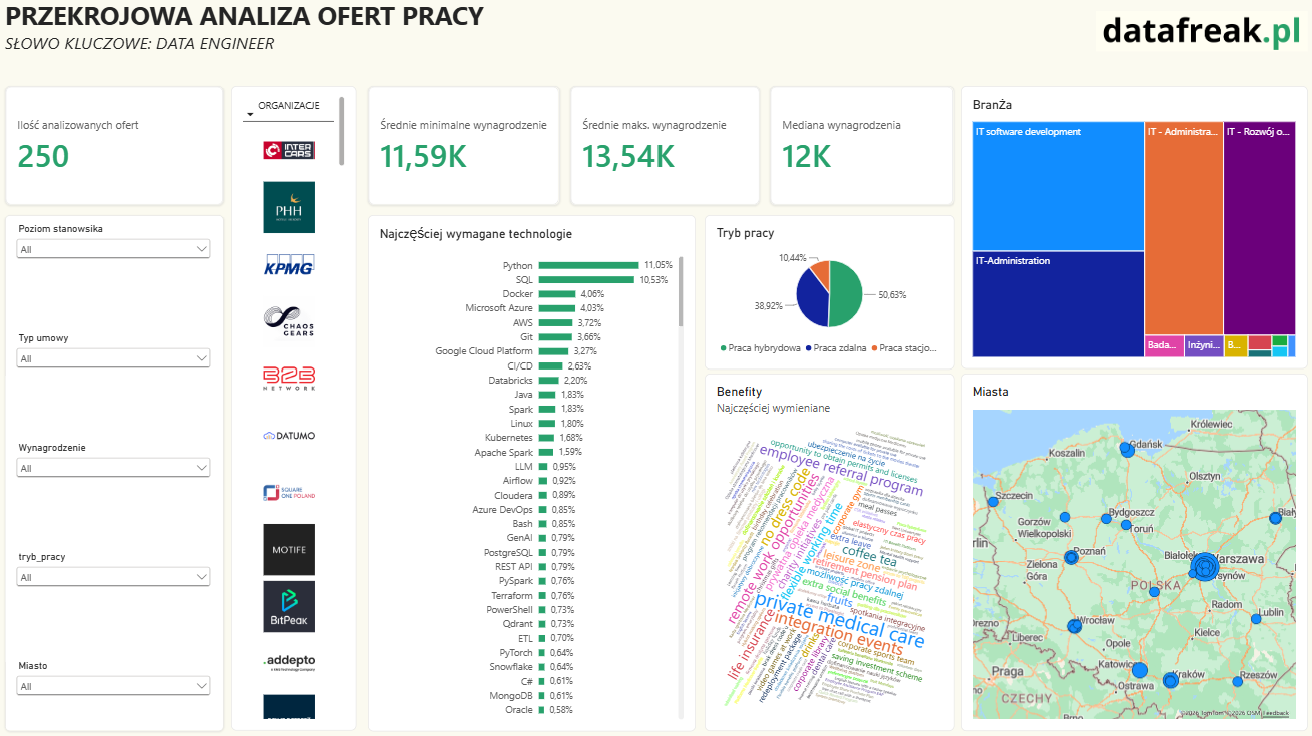

Layout of this report page (visuals, bound fields, positions):
{"tool":"powerbi","page":{"name":"Pracus","canvas":[1920,1080],"ordinal":0},"visuals":[{"type":"cardVisual","fields":{"Data":["Count(oferty.offer_id)"]},"box":[10.7,128.3,319.2,174.1],"z":0},{"type":"textbox","box":[10.7,0,1909.3,97.8],"z":1000},{"type":"image","box":[1600.8,0,308.5,97.8],"z":2000},{"type":"cardVisual","fields":{"Data":["Avg(wynagrodzenie.min_salary)"]},"box":[539.2,128.3,279.5,174.1],"z":3000},{"type":"cardVisual","fields":{"Data":["Avg(wynagrodzenie.max_salary)"]},"box":[834,128.3,276.5,174.1],"z":4000},{"type":"shape","box":[10.7,316.2,319.2,751.5],"z":5000},{"type":"clusteredBarChart","title":"Najczęściej wymagane technologie","fields":{"Category":["technologie.tech_wymagane"],"Y":["technologie.Count Tech"]},"box":[539.2,316.2,476.6,751.5],"z":6000},{"type":"treemap","title":"Branża","fields":{"Group":["branze.branza"],"Values":["Count(oferty.offer_id)"]},"box":[1403.7,128.3,505.6,412.4],"z":7000},{"type":"slicer","fields":{"Values":["poziom_stanowiska.poziom_stanowiska"]},"box":[21.4,328.4,293.3,84],"z":8000},{"type":"slicer","fields":{"Values":["typ_umowy.typ_kontraktu"]},"box":[21.4,487.3,293.3,84],"z":9000},{"type":"slicer","fields":{"Values":["wynagrodzenie.kind","wynagrodzenie.timeUnit"]},"box":[21.4,646.1,293.3,84],"z":10000},{"type":"azureMap","title":"Miasta","fields":{"Category":["miasta.miasta"],"Size":["Count(oferty.offer_id)"]},"box":[1403.7,546.8,505.6,520.9],"z":11000},{"type":"slicer","fields":{"Values":["tryb_pracy.tryb_pracy"]},"box":[21.4,805,293.3,84],"z":12000},{"type":"pieChart","title":"Tryb pracy","fields":{"Category":["tryb_pracy.tryb_pracy"],"Y":["Count(branze.offer_id)"]},"box":[1029.5,316.2,363.5,224.5],"z":13000},{"type":"tableEx","fields":{"Values":["oferty.company_logo_url"]},"box":[340.6,128.3,183.3,939.4],"z":14000},{"type":"WordCloud1447959067750","title":"Benefity","fields":{"Category":["dodatkowe_info.element"],"Values":["CountNonNull(dodatkowe_info.element)"]},"box":[1029.5,546.8,363.5,520.9],"z":14001},{"type":"slicer","fields":{"Values":["miasta.miasta"]},"box":[21.4,963.8,293.3,84],"z":14002},{"type":"cardVisual","fields":{"Data":["Median(wynagrodzenie.max_salary)"]},"box":[1124.2,128.3,268.8,174.1],"z":14003}]}

Visuals, with their boxes in screenshot pixels (x1, y1, x2, y2), scaled from the page's 1920x1080 canvas onto the 1312x736 screenshot:
cardVisual - Count(oferty.offer_id): 7,87,225,206
textbox: 7,0,1311,67
image: 1094,0,1305,67
cardVisual - Avg(wynagrodzenie.min_salary): 368,87,559,206
cardVisual - Avg(wynagrodzenie.max_salary): 570,87,759,206
shape: 7,215,225,728
"Najczęściej wymagane technologie" clusteredBarChart: 368,215,694,728
"Branża" treemap: 959,87,1305,368
slicer - poziom_stanowiska.poziom_stanowiska: 15,224,215,281
slicer - typ_umowy.typ_kontraktu: 15,332,215,389
slicer - wynagrodzenie.kind x wynagrodzenie.timeUnit: 15,440,215,498
"Miasta" azureMap: 959,373,1305,728
slicer - tryb_pracy.tryb_pracy: 15,549,215,606
"Tryb pracy" pieChart: 703,215,952,368
tableEx - oferty.company_logo_url: 233,87,358,728
"Benefity" WordCloud1447959067750: 703,373,952,728
slicer - miasta.miasta: 15,657,215,714
cardVisual - Median(wynagrodzenie.max_salary): 768,87,952,206
